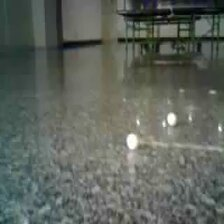w: (126, 133, 141, 149), (166, 111, 178, 125)
